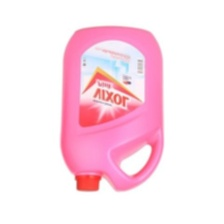cleaning_solution: (55, 21, 167, 195)
